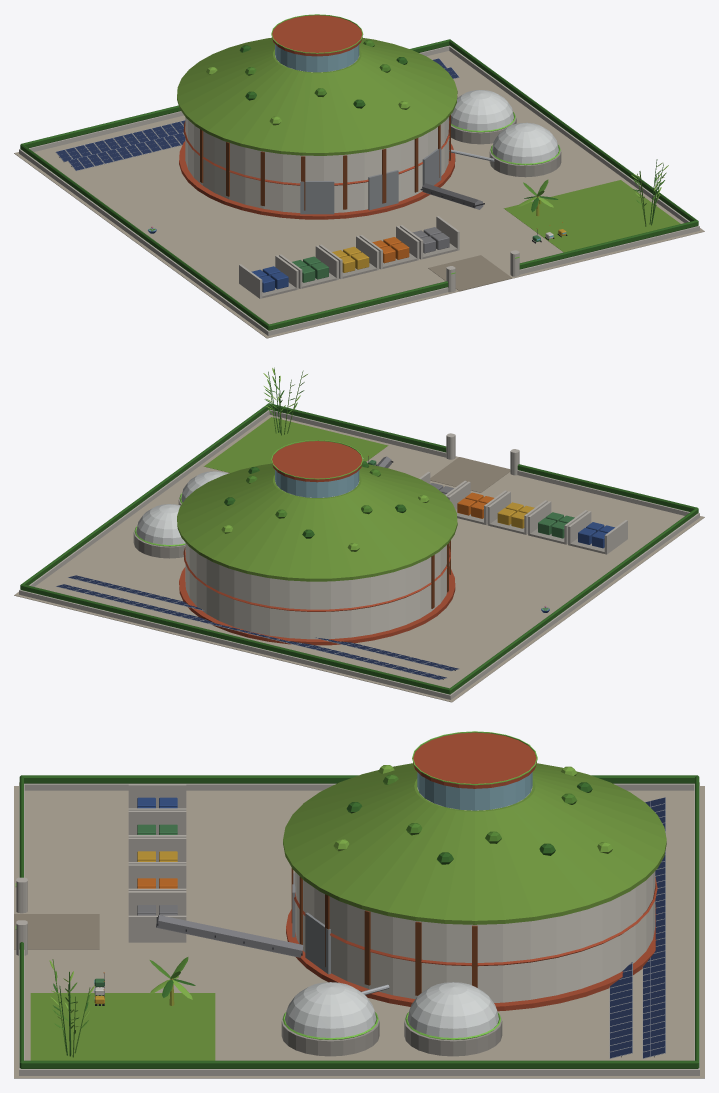
File: waste.glb
The picture shows the model from 3 angles, top to bottom: view 1: azimuth 30°, elevation 25°; view 2: azimuth 150°, elevation 25°; view 3: azimuth 270°, elevation 25°; orthographic projection. The views are drawn at different scales.
Parts seen in each view (by area): view 1: body, windows; view 2: body; view 3: body, windows.
Part boxes in pixels (box(x1,y1,x2,y2)): body: box(14, 15, 704, 338); windows: box(271, 14, 566, 274); body: box(14, 367, 704, 702); body: box(14, 732, 704, 1078); windows: box(15, 731, 537, 1039).
Bounding box in the file's own units: 47.9 × 13.38 × 47.9.
